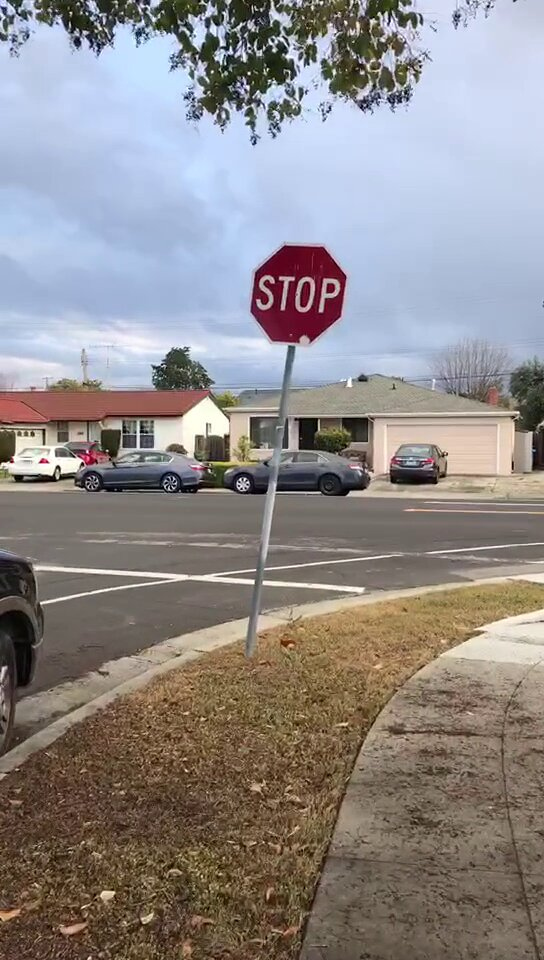stop_sign: (249, 244, 346, 341)
